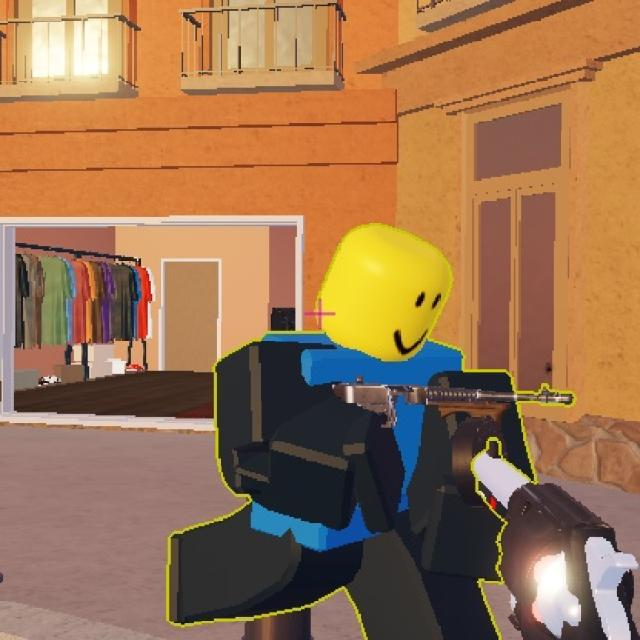player: (258, 219, 454, 640)
